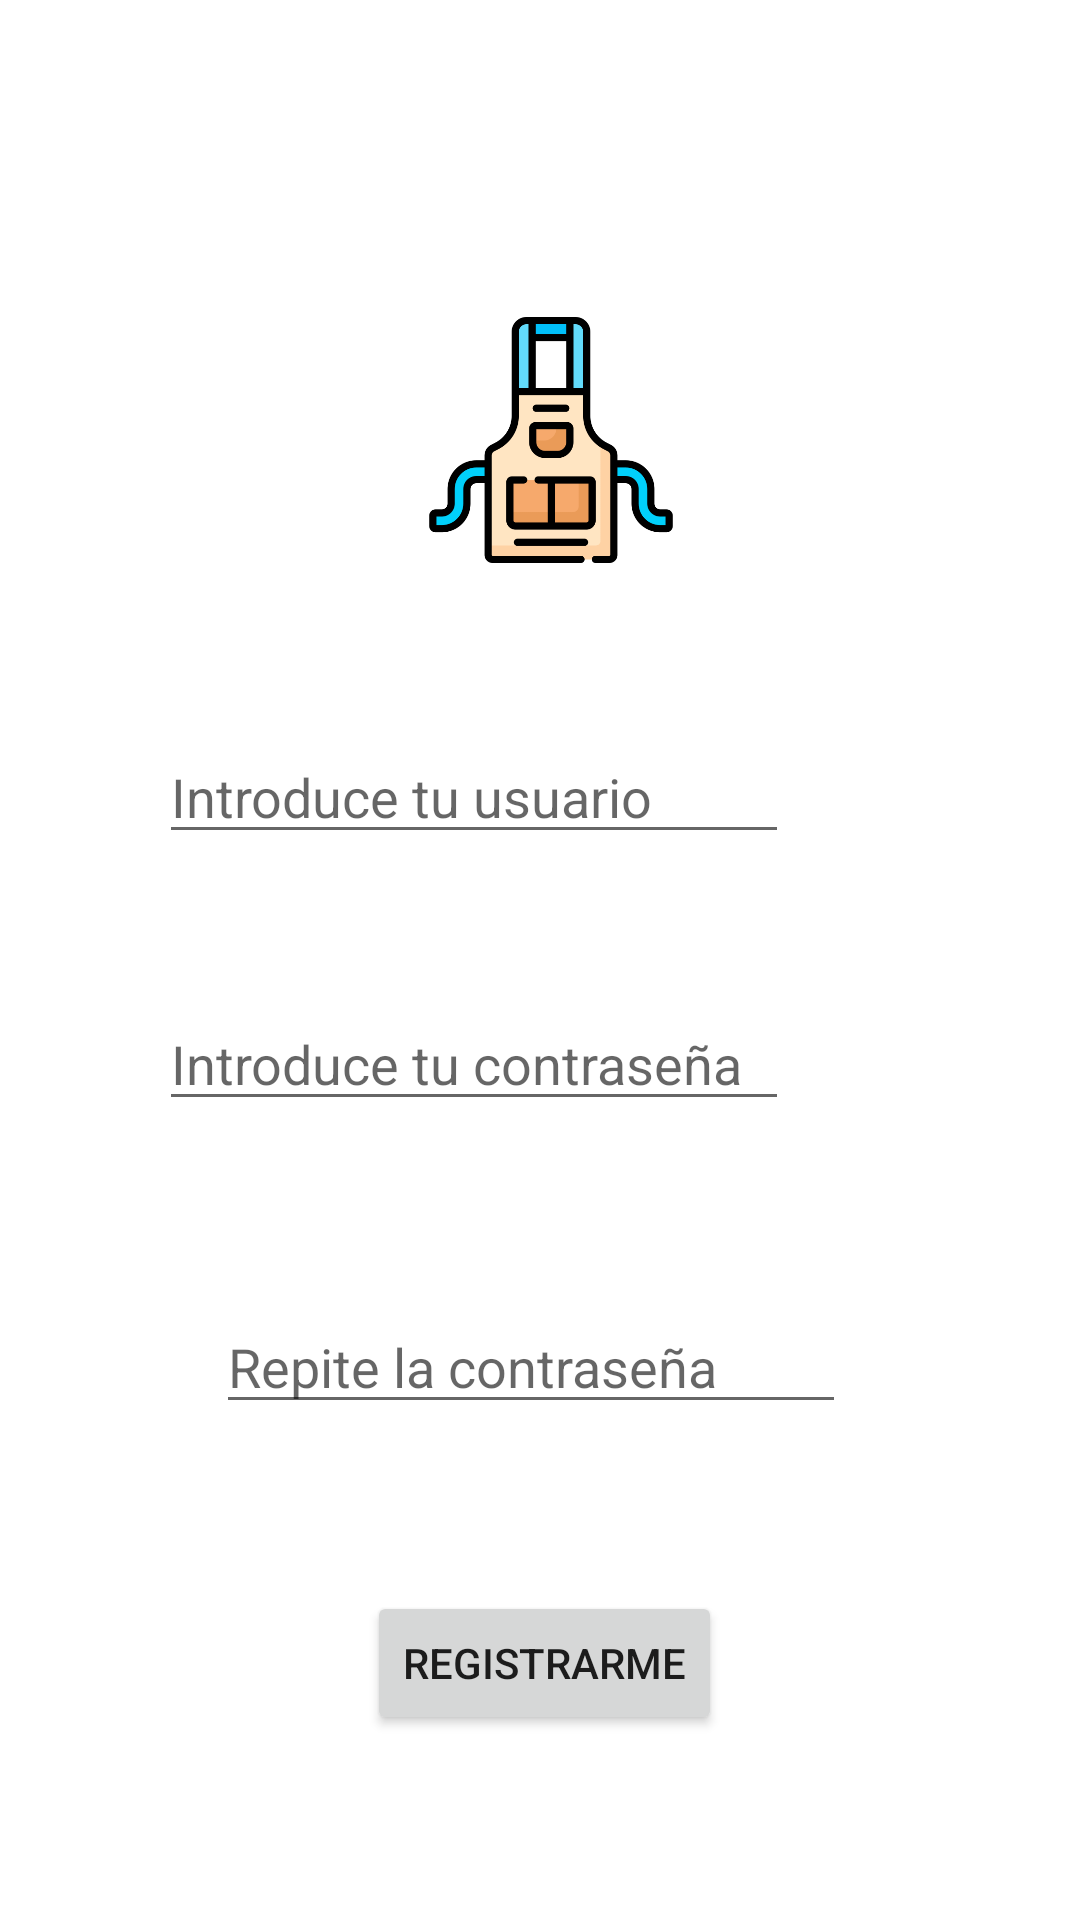

Where icons sit on this 1080 x 1920 app screen, as (x1, y1, x2, y2):
delantal: (429, 317, 673, 563)
